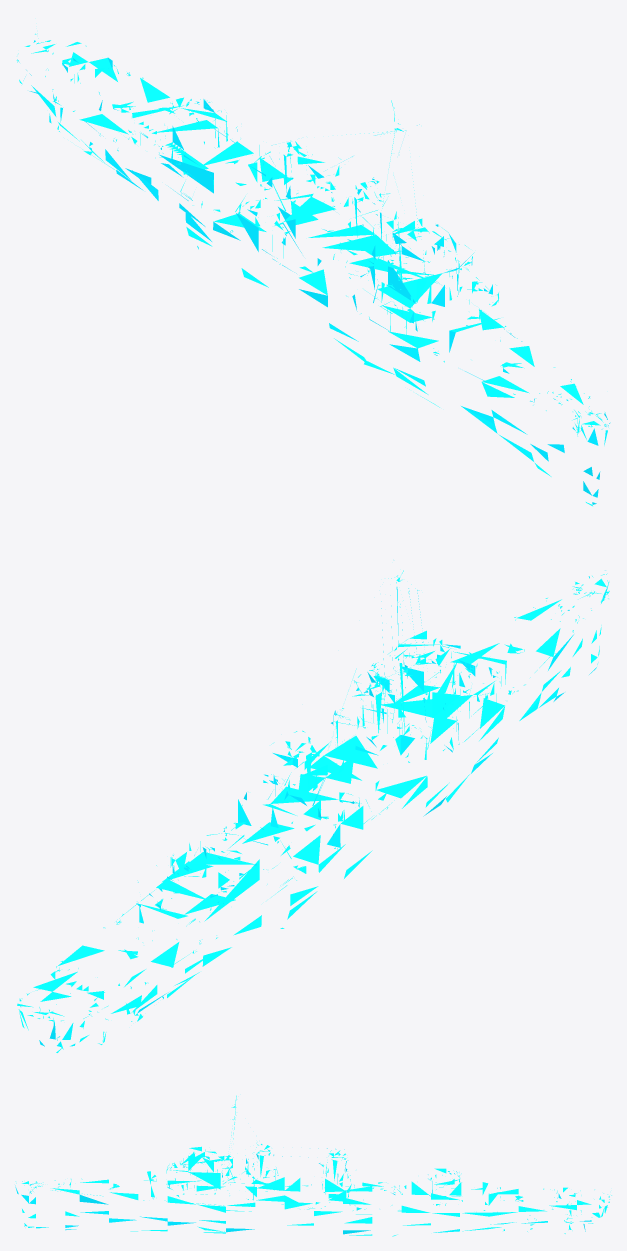
The model's file is Johnston.glb.
The picture shows the model from 3 angles, top to bottom: view 1: azimuth 30°, elevation 25°; view 2: azimuth 150°, elevation 25°; view 3: azimuth 270°, elevation 25°; orthographic projection. The views are drawn at different scales.
Bounding box in the file's own units: 0.8026 × 1.96 × 7.67.
